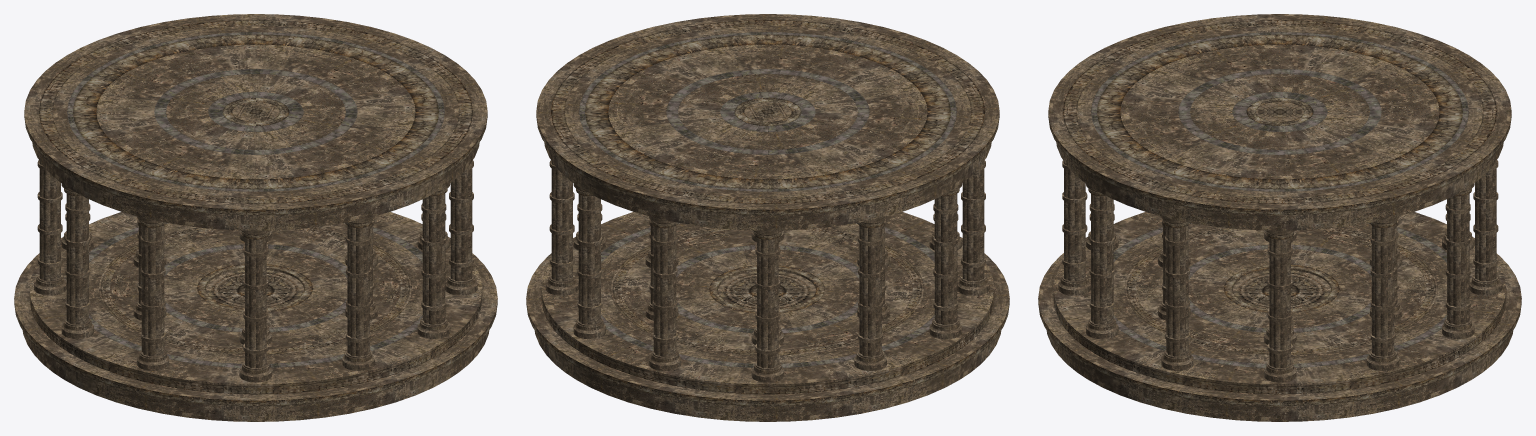
Rendered from materials_5_building_30.fbx.
3 renders of one model, left to right at view 1: azimuth 30°, elevation 25°; view 2: azimuth 150°, elevation 25°; view 3: azimuth 270°, elevation 25°, orthographic.
Visible parts, largest first — view 1: materials_5_building_30; view 2: materials_5_building_30; view 3: materials_5_building_30.
Boxes of the visible parts, x1,y1,x2,y2 form: materials_5_building_30: (14, 14, 497, 421); materials_5_building_30: (526, 14, 1009, 421); materials_5_building_30: (1038, 14, 1521, 421).
Size of the model in its own units: 903 by 434 by 903.
